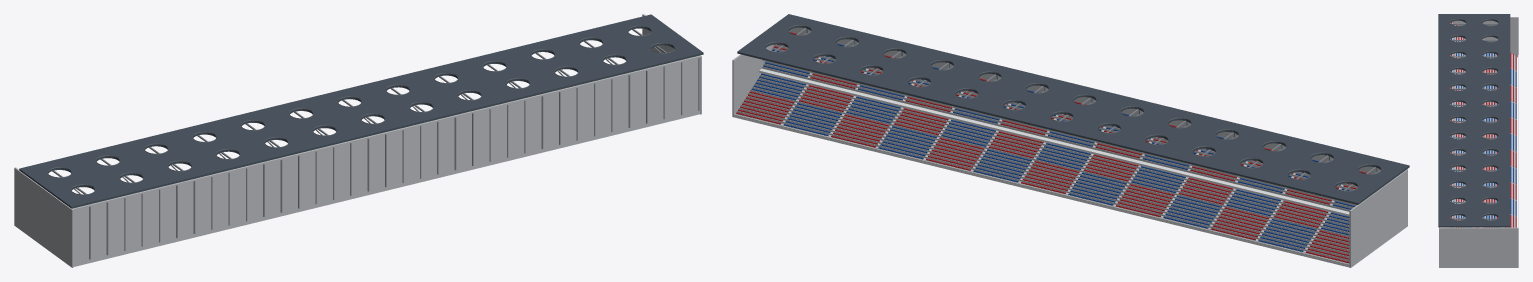
The model's file is shanghai-tribuna.glb.
The picture shows the model from 3 angles, left to right: view 1: azimuth 30°, elevation 25°; view 2: azimuth 150°, elevation 25°; view 3: azimuth 270°, elevation 25°; orthographic projection. The views are drawn at different scales.
Parts seen in each view (by area): view 1: shanghai-tribuna; view 2: shanghai-tribuna; view 3: shanghai-tribuna.
Boxes of the visible parts, box(x1,y1,x2,y2) form: shanghai-tribuna: box(14, 14, 703, 267); shanghai-tribuna: box(732, 14, 1409, 267); shanghai-tribuna: box(1438, 14, 1518, 267).
Bounding box in the file's own units: 327 × 30.8 × 52.5.
